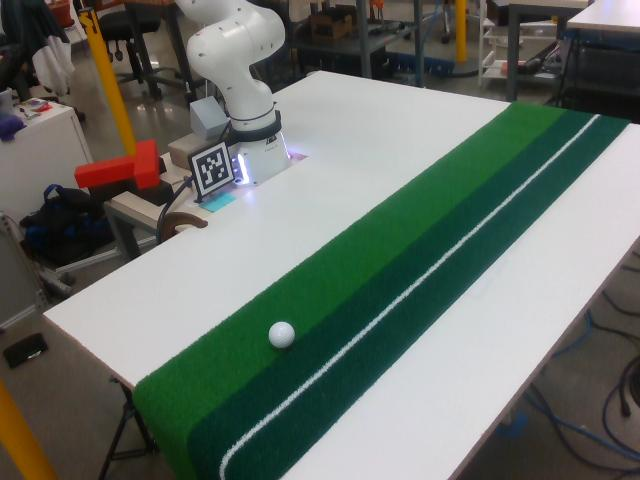golf_balls: (269, 321, 295, 348)
